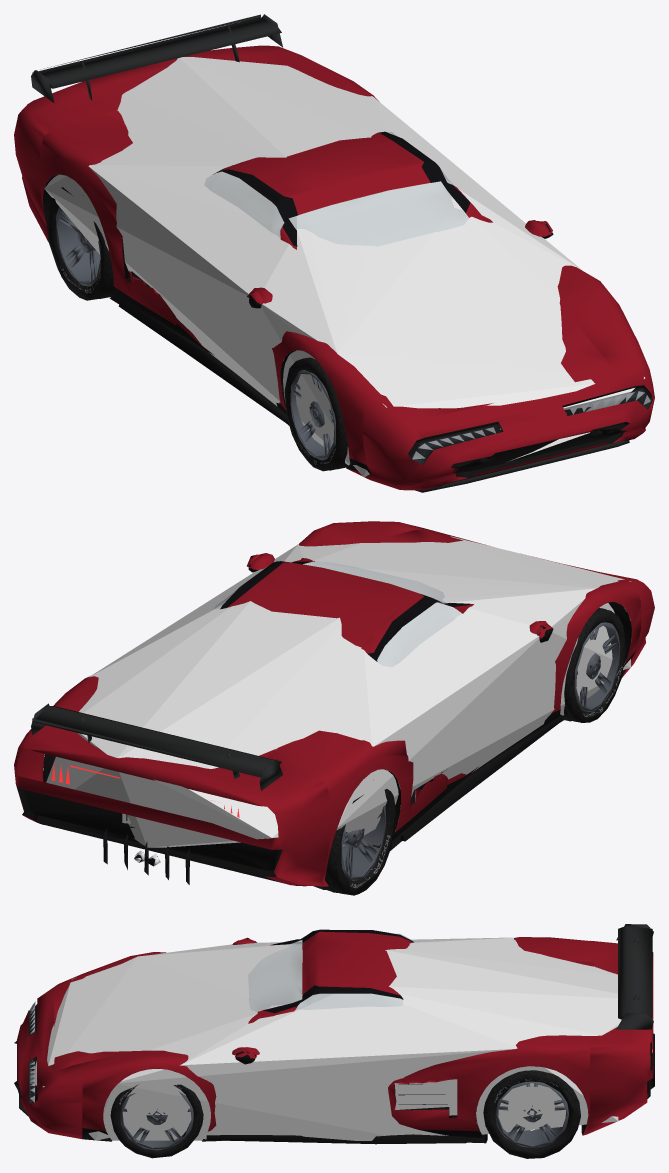
Rendered from noctra_sable_lod2.glb.
The picture shows the model from 3 angles, top to bottom: view 1: azimuth 30°, elevation 25°; view 2: azimuth 150°, elevation 25°; view 3: azimuth 270°, elevation 25°; orthographic projection. The views are drawn at different scales.
Visible parts, largest first — view 1: col_body, body, trim, glass, wheel_RR, wheel_FR, lights_front; view 2: col_body, body, trim, wheel_FR, wheel_RR, glass, underbody; view 3: col_body, body, trim, wheel_RL, glass, wheel_FL, lights_front.
Boxes of the visible parts, box(x1,y1,x2,y2) form: col_body: box(44, 57, 644, 477); body: box(14, 45, 654, 490); trim: box(31, 14, 629, 492); glass: box(204, 132, 468, 245); wheel_RR: box(46, 187, 114, 300); wheel_FR: box(284, 357, 348, 471); lights_front: box(411, 389, 651, 463); col_body: box(46, 536, 631, 847); body: box(14, 521, 654, 886); trim: box(31, 554, 563, 884); wheel_FR: box(563, 608, 626, 722); wheel_RR: box(314, 779, 396, 895); glass: box(214, 561, 461, 666); underbody: box(34, 602, 631, 886); col_body: box(30, 937, 621, 1140); body: box(14, 929, 653, 1143); trim: box(19, 924, 654, 1144); wheel_RL: box(483, 1070, 580, 1158); glass: box(248, 934, 413, 1011); wheel_FL: box(110, 1084, 203, 1158); lights_front: box(29, 1001, 35, 1103).
Size of the model in its own units: 1.95 by 1.16 by 4.55.
Materials: 12 (3 with a texture image).
